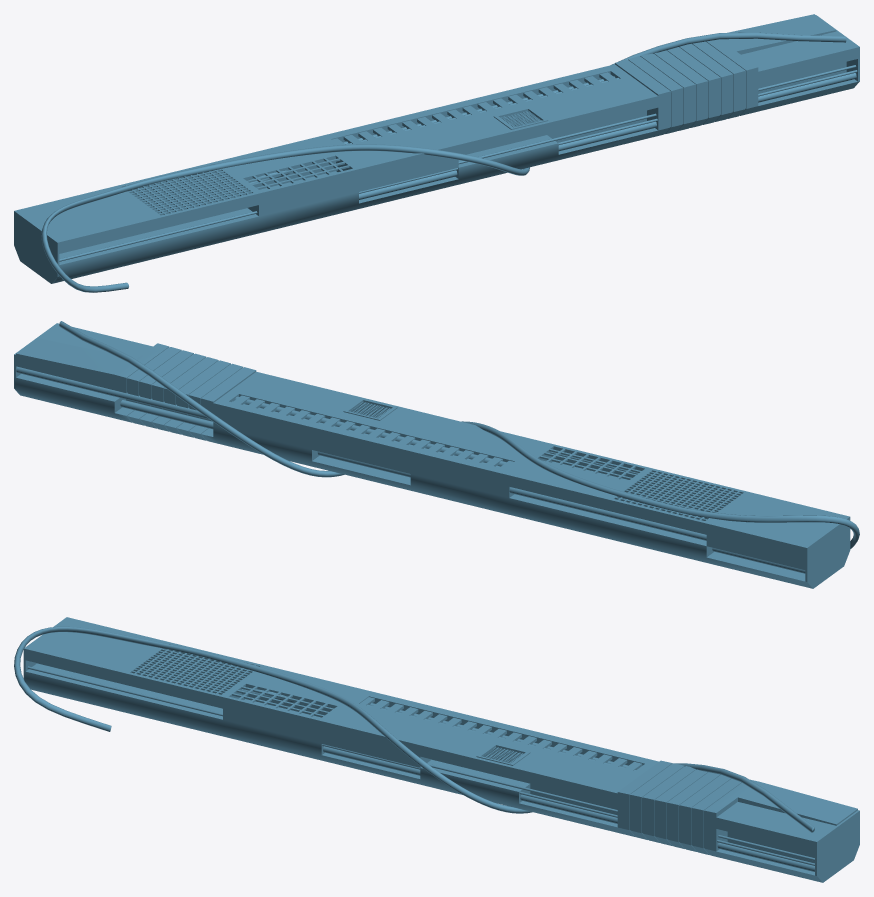
The model's file is Platform_3.fbx.
The picture shows the model from 3 angles, top to bottom: view 1: azimuth 30°, elevation 25°; view 2: azimuth 150°, elevation 25°; view 3: azimuth 330°, elevation 25°; orthographic projection.
Visible parts, largest first — view 1: Platform_high2; view 2: Platform_high2; view 3: Platform_high2.
Part boxes in pixels (x1,y1,x2,y2): Platform_high2: (14,14,859,292); Platform_high2: (14,321,859,588); Platform_high2: (14,617,859,882).
Bounding box in the file's own units: 2044 × 212 × 256.
